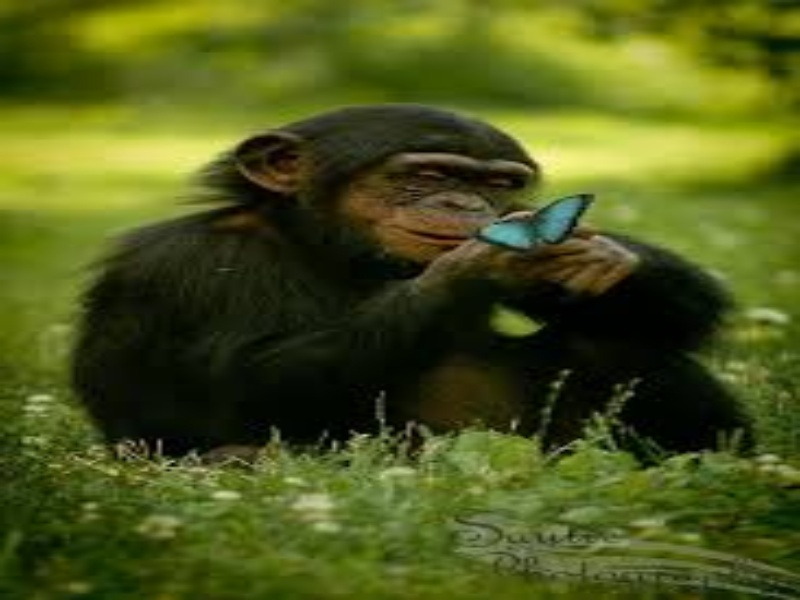monkey: (37, 75, 800, 478)
